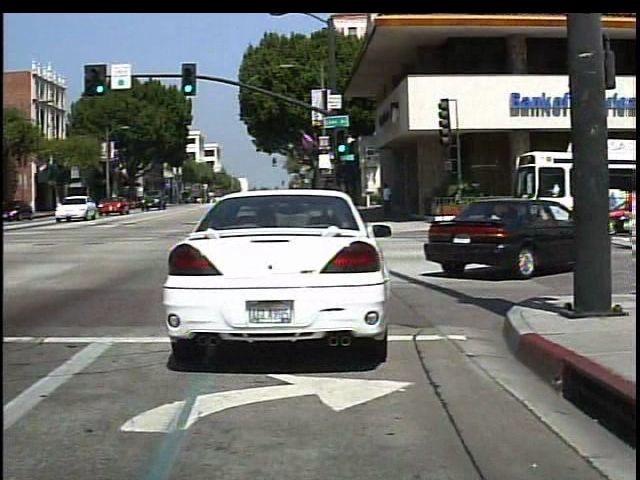person: (379, 180, 397, 221)
